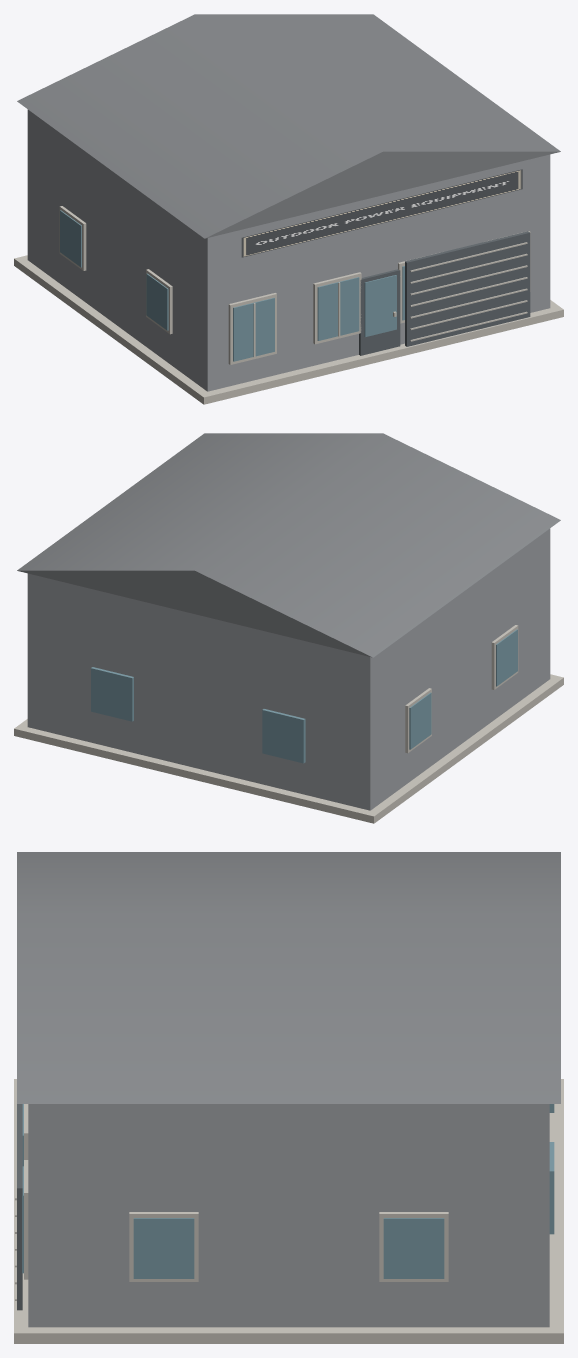
The model's file is outdoor_power_equipment.glb.
3 views of the same model, one above another, from view 1: azimuth 30°, elevation 25°; view 2: azimuth 150°, elevation 25°; view 3: azimuth 270°, elevation 25° (orthographic). The views are drawn at different scales.
Visible parts, largest first — view 1: world; view 2: world; view 3: world.
Boxes of the visible parts, x1=… form: world: x1=14, y1=14, x2=563, y2=404; world: x1=14, y1=433, x2=563, y2=823; world: x1=14, y1=852, x2=563, y2=1343.
Bounding box in the file's own units: 10.4 × 5.75 × 9.5.
2 materials, 1 textured.
